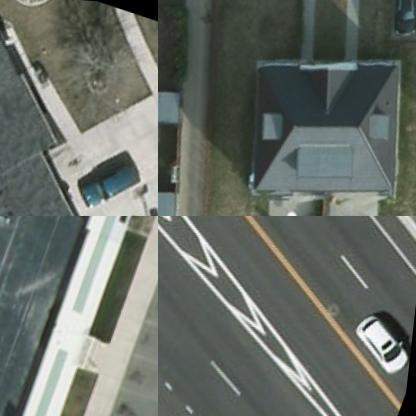car: (348, 301, 415, 376), (80, 147, 152, 215), (385, 0, 415, 39)
